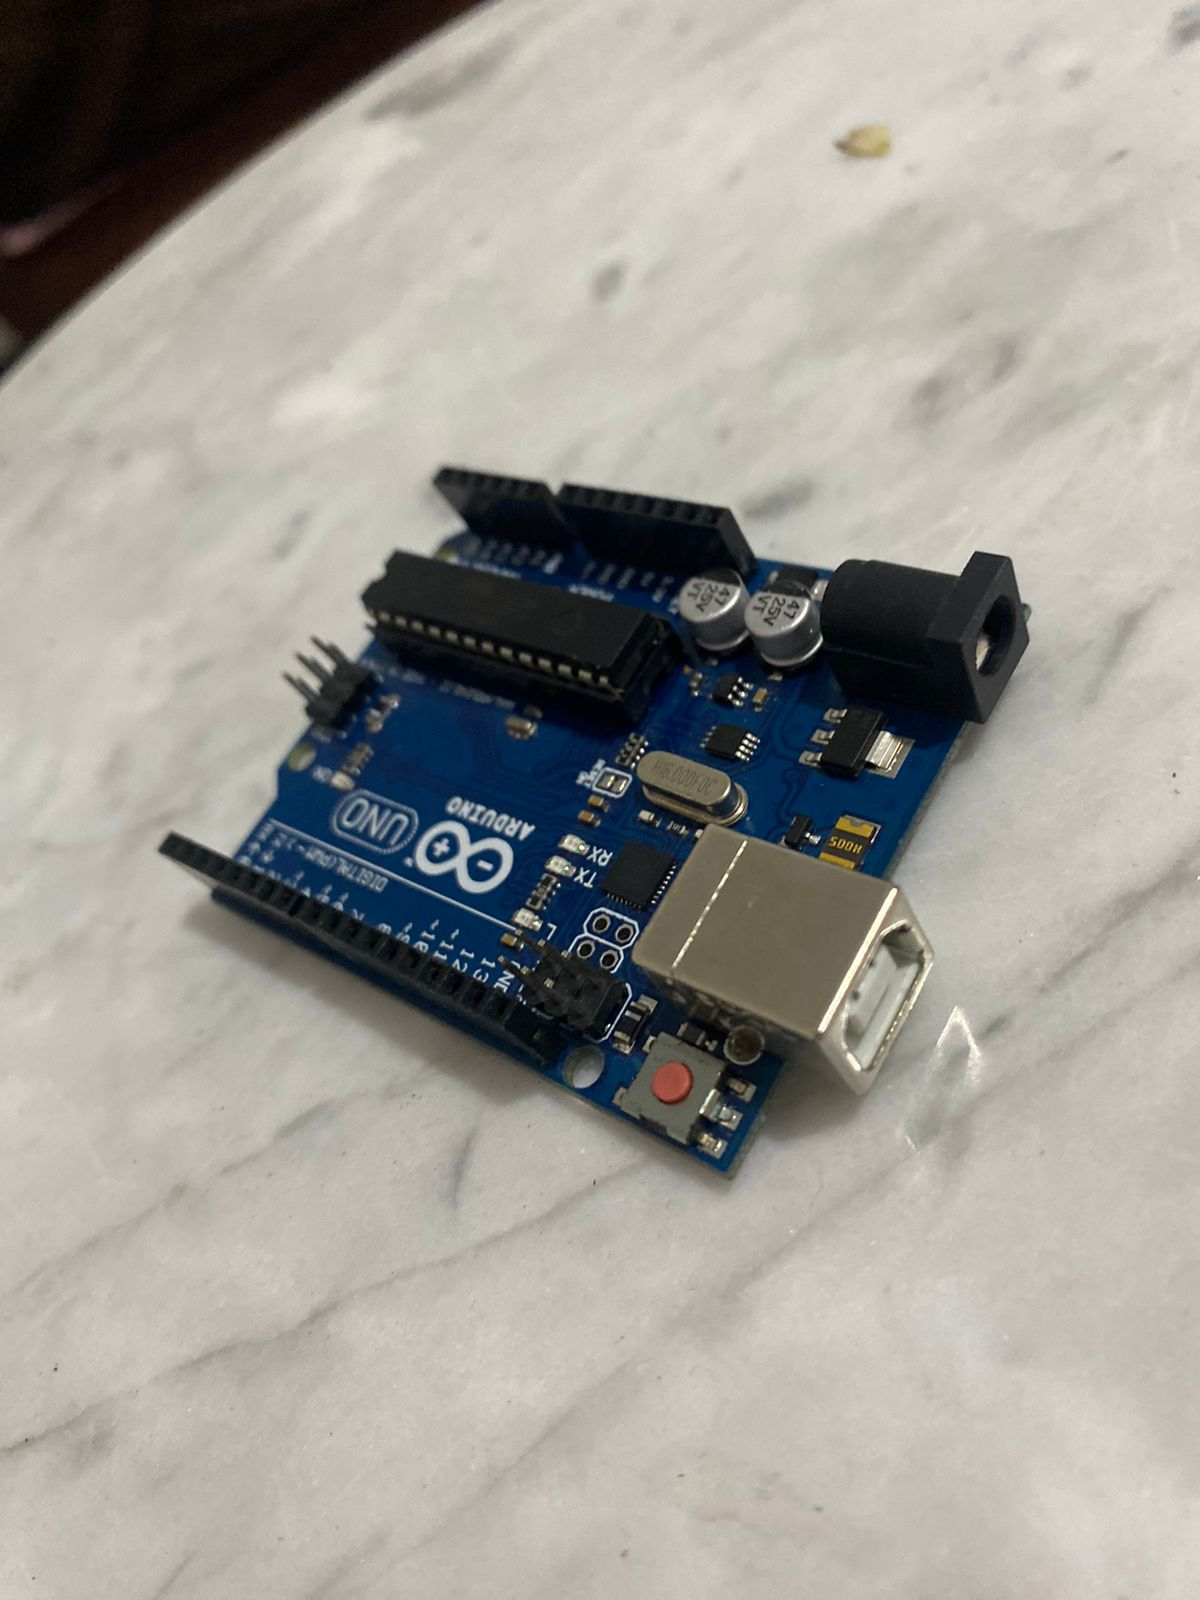arduino-uno: (153, 464, 1037, 1187)
